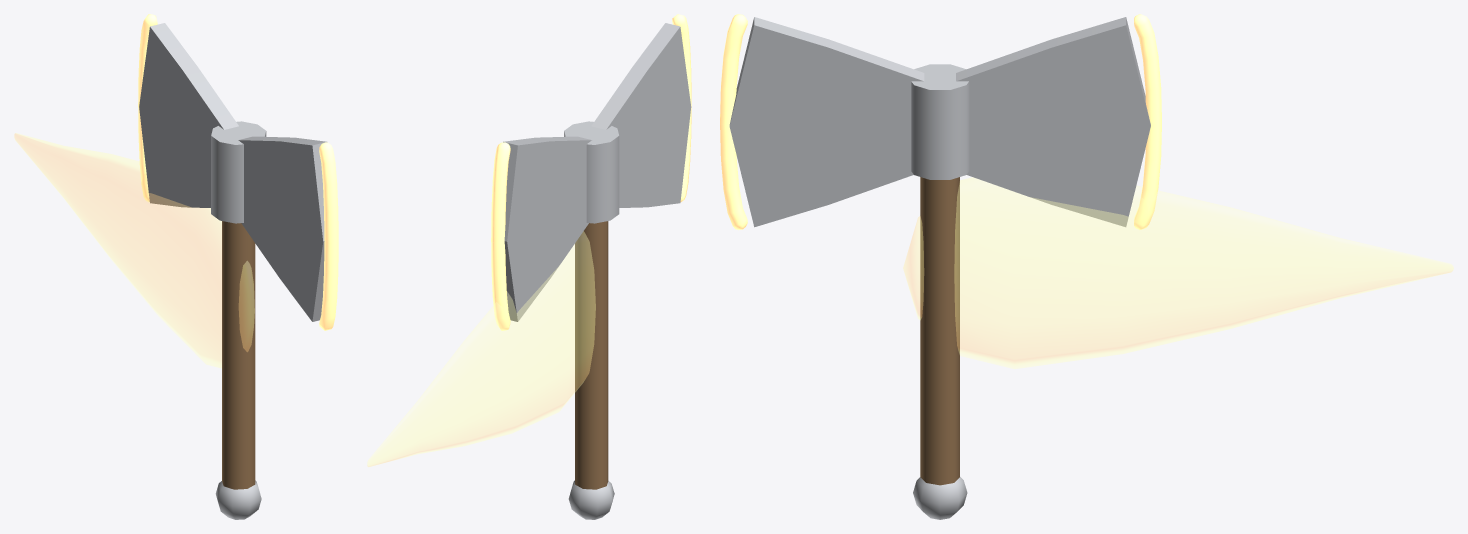
Rendered from throw_axe.glb.
The picture shows the model from 3 angles, left to right: view 1: azimuth 30°, elevation 25°; view 2: azimuth 150°, elevation 25°; view 3: azimuth 270°, elevation 25°; orthographic projection. The views are drawn at different scales.
Visible parts, largest first — view 1: axe, trail; view 2: axe, trail; view 3: axe, trail.
Boxes of the visible parts, bbox=[...] form: axe: bbox=[138, 14, 338, 519]; trail: bbox=[14, 133, 254, 368]; axe: bbox=[491, 14, 691, 519]; trail: bbox=[367, 231, 595, 466]; axe: bbox=[720, 14, 1161, 519]; trail: bbox=[903, 177, 1453, 368].
Bounding box in the file's own units: 0.0495 × 0.4475 × 0.5922.
